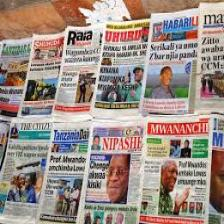paper: (78, 124, 156, 224), (144, 119, 218, 224), (142, 7, 199, 118), (49, 121, 94, 224), (100, 20, 144, 122), (1, 117, 42, 224), (62, 18, 95, 119), (30, 32, 65, 117), (0, 34, 22, 118)
